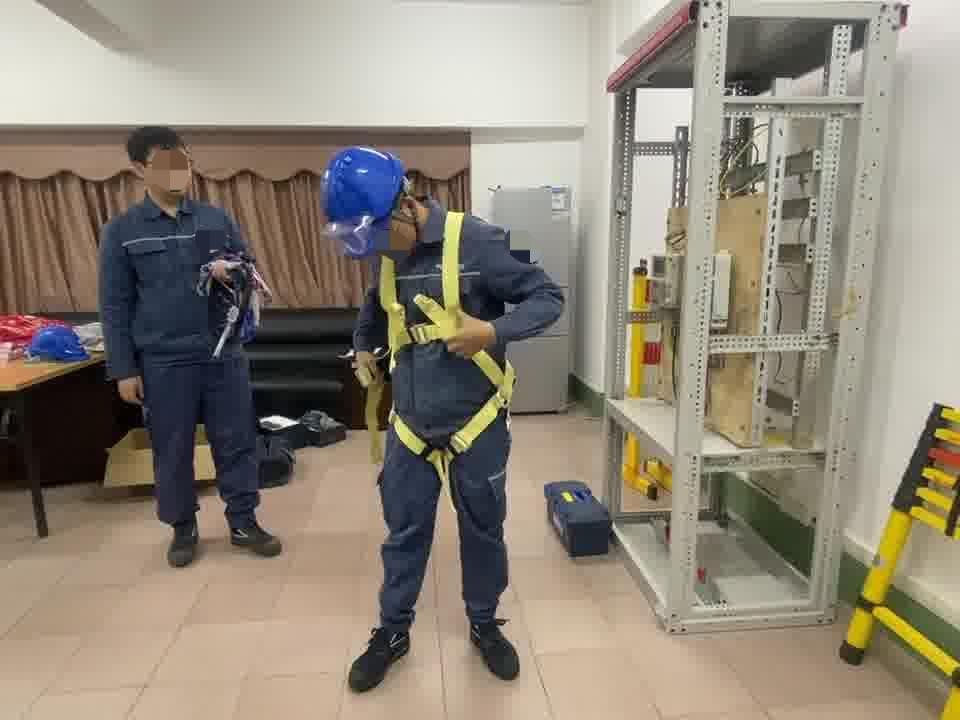halt: (323, 149, 413, 256)
inear: (391, 196, 427, 240)
noear: (129, 159, 152, 184)
unhalt: (128, 129, 199, 208)
